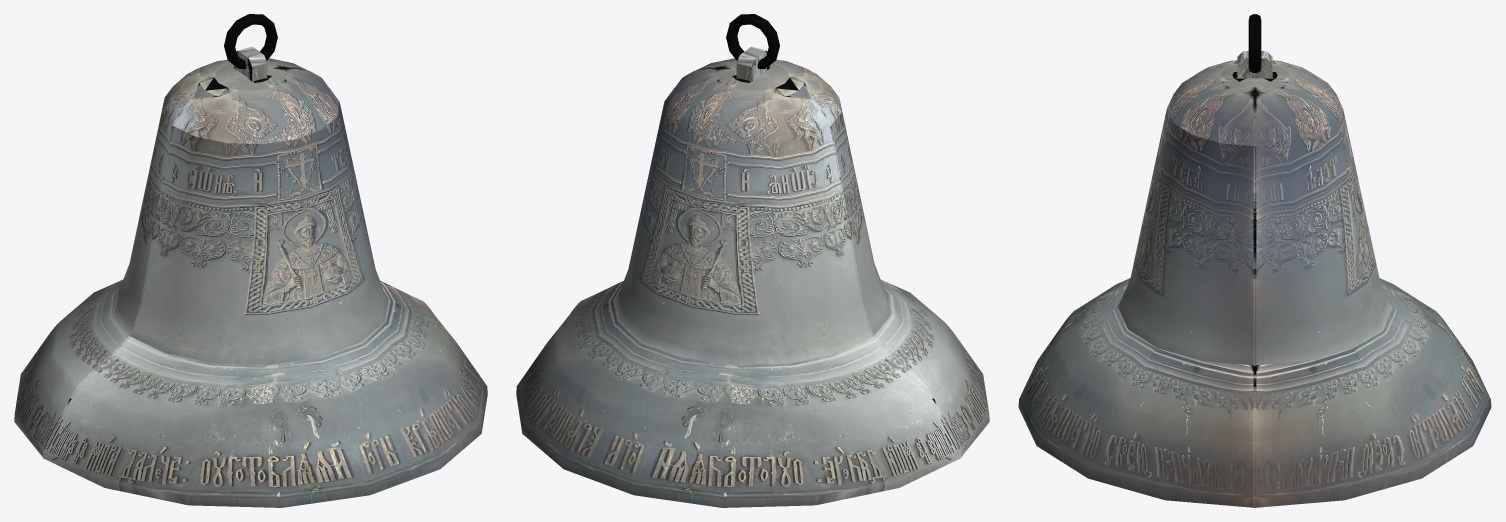
File: Bell.fbx
3 renders of one model, left to right at view 1: azimuth 30°, elevation 25°; view 2: azimuth 150°, elevation 25°; view 3: azimuth 270°, elevation 25°, orthographic.
Visible parts, largest first — view 1: Colocol.001; view 2: Colocol.001; view 3: Colocol.001.
Part boxes in pixels (box(x1,y1,x2,y2)): Colocol.001: box(14, 14, 487, 507); Colocol.001: box(516, 14, 989, 507); Colocol.001: box(1018, 14, 1491, 507).
Bounding box in the file's own units: 1.59 × 1.64 × 1.58.
Materials: 6 (4 with a texture image).
